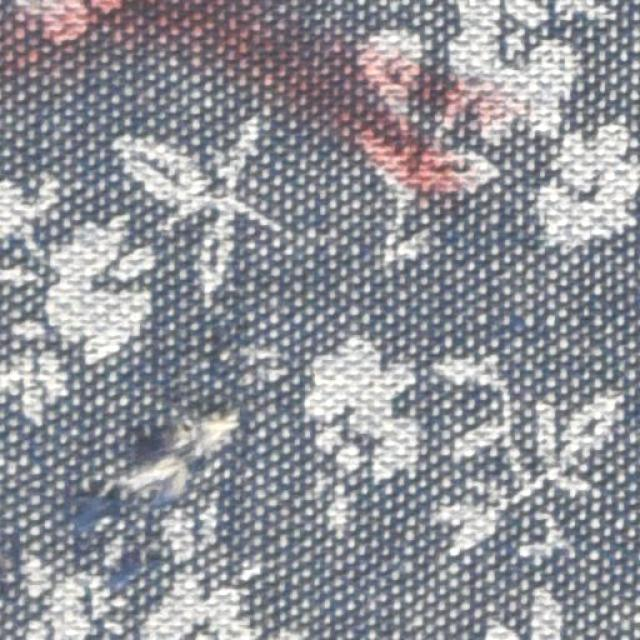Snag: (72, 414, 238, 548)
Stain: (4, 1, 472, 205)
